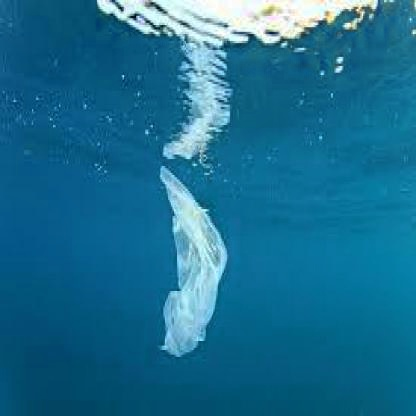pbag: (156, 164, 228, 359)
